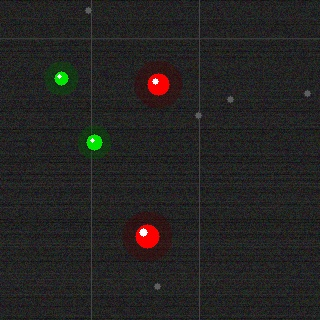green_normal: (84, 132, 104, 152), (52, 69, 70, 87)
red_fault: (133, 222, 161, 250), (145, 71, 171, 97)
